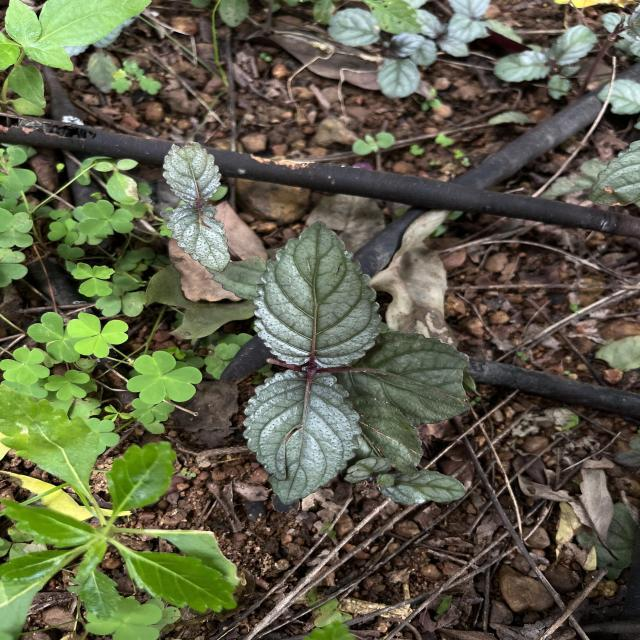Hemigraphis colorata: (249, 217, 386, 372), (239, 366, 364, 508), (328, 328, 476, 432), (157, 206, 233, 275), (160, 138, 226, 206)
